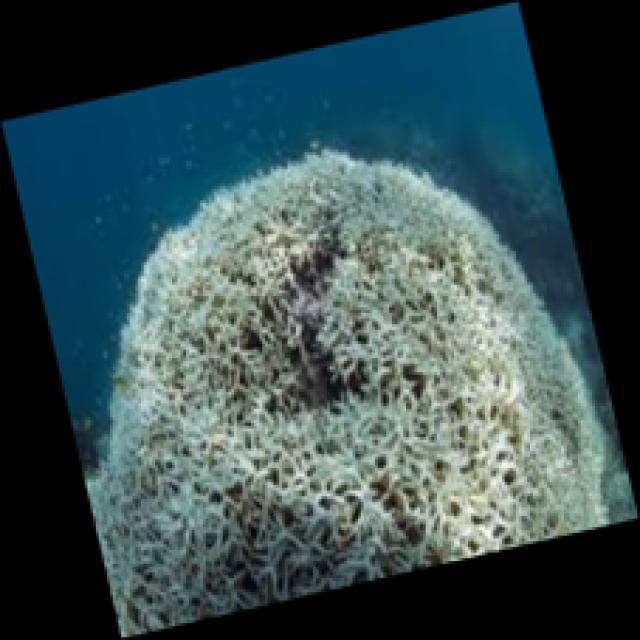Bleached: (83, 149, 610, 640)
